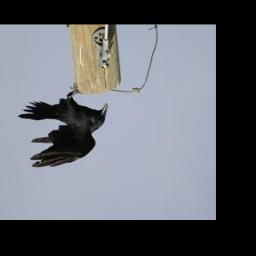Crow: (15, 84, 108, 170)
